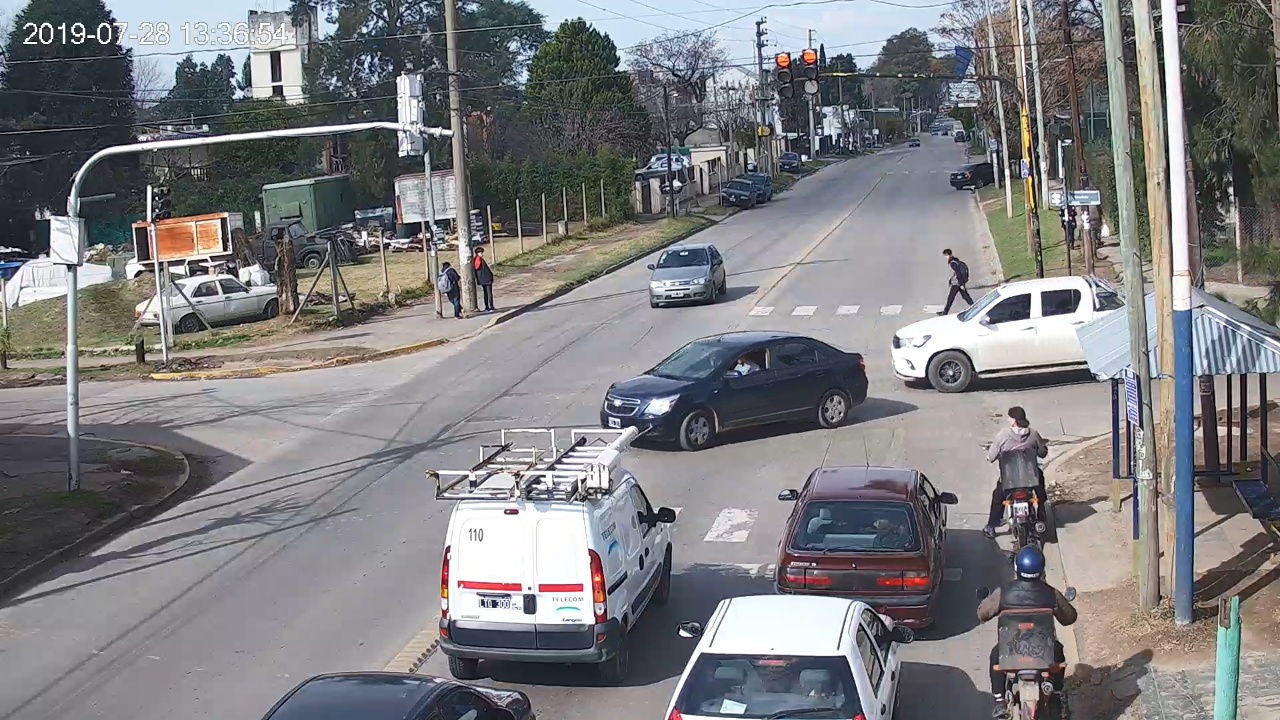car: (443, 454, 676, 683), (664, 594, 914, 720), (256, 671, 535, 720)
front car: (601, 330, 870, 451), (648, 244, 726, 307)
motorcycle: (976, 586, 1077, 720), (981, 439, 1049, 538)
traffic light: (776, 52, 794, 99), (803, 50, 819, 94)
